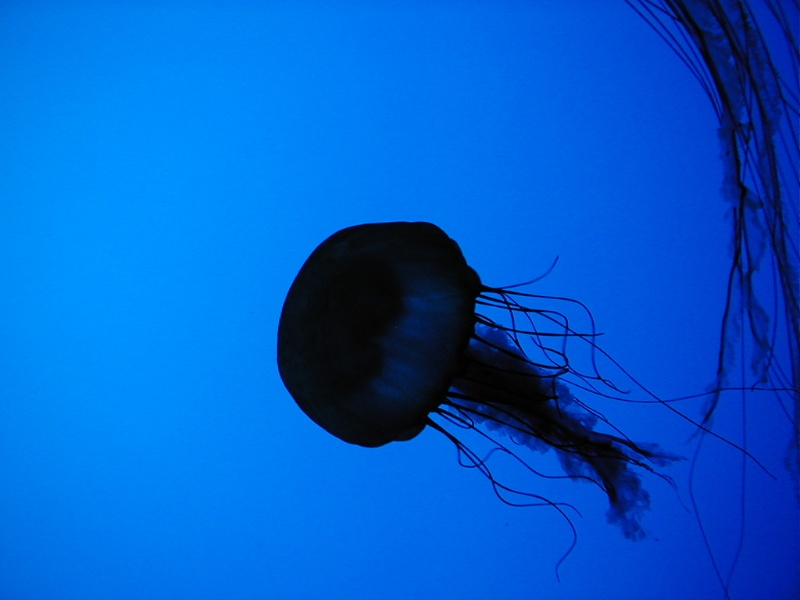Jellyfish: (277, 218, 799, 584)
